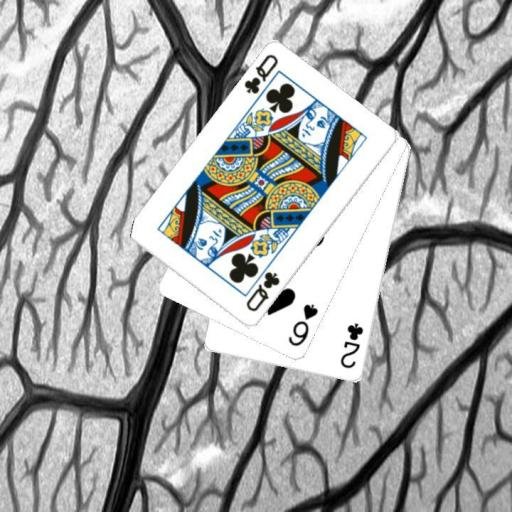2C: (337, 320, 366, 370)
6S: (285, 301, 320, 348)
QC: (243, 268, 282, 314), (241, 51, 280, 97)
